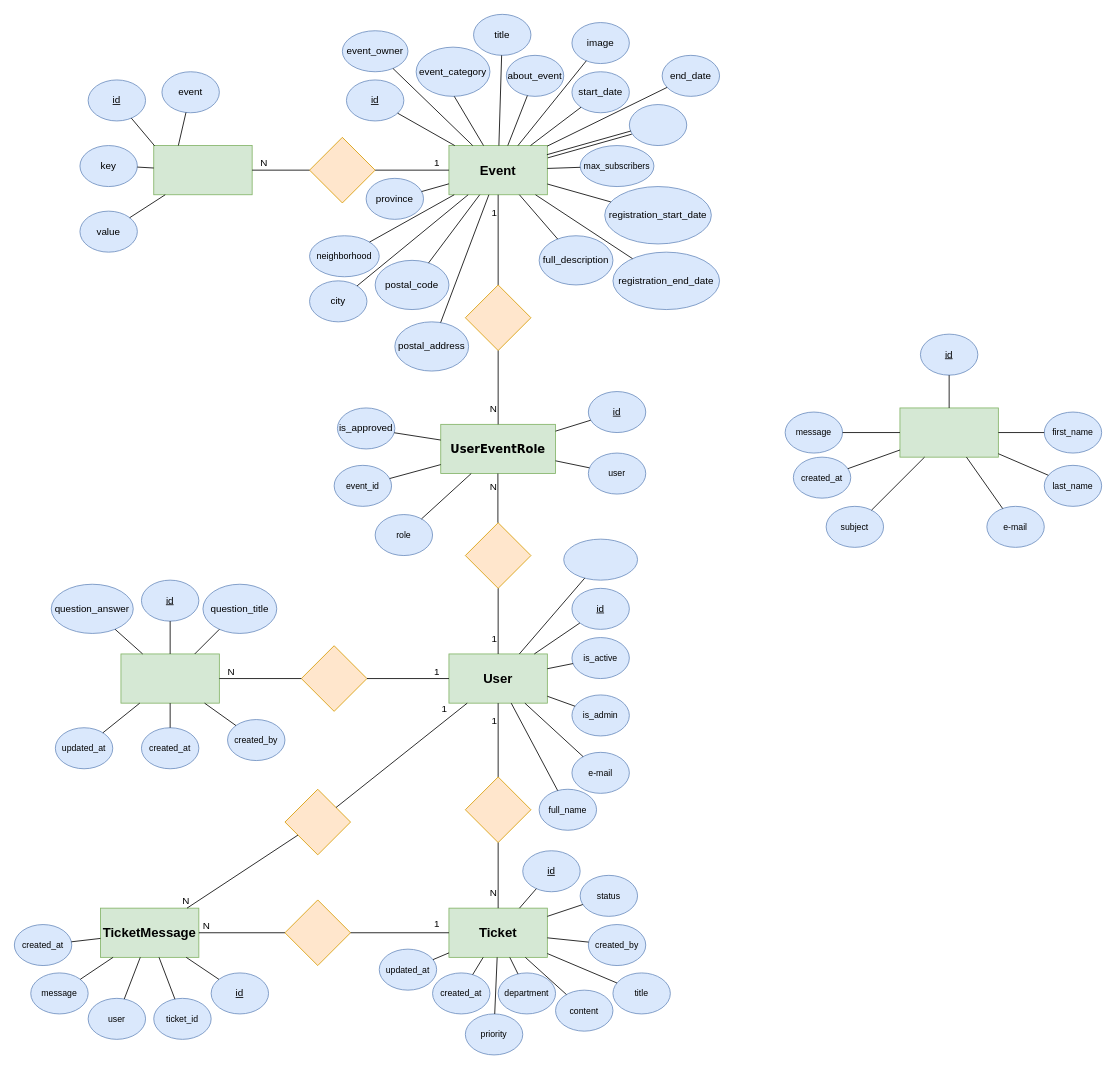
The diagram is 1116 pixels wide and 1069 high, and some of its shapes have lost their labels. Here are the shapes that lost their labels. From the top down, the centre of each, then its label:
At pixel 658 125: "subscribers".
At pixel 202 170: "EventFeature".
At pixel 342 170: "includes".
At pixel 498 317: "Hold".
At pixel 948 432: "ContactUs".
At pixel 498 555: "Participates".
At pixel 600 559: "phone_nmuber".
At pixel 169 678: "FAQ".
At pixel 334 678: "Makes".
At pixel 317 821: "writes".
At pixel 498 809: "having a problem".
At pixel 317 932: "contains".
